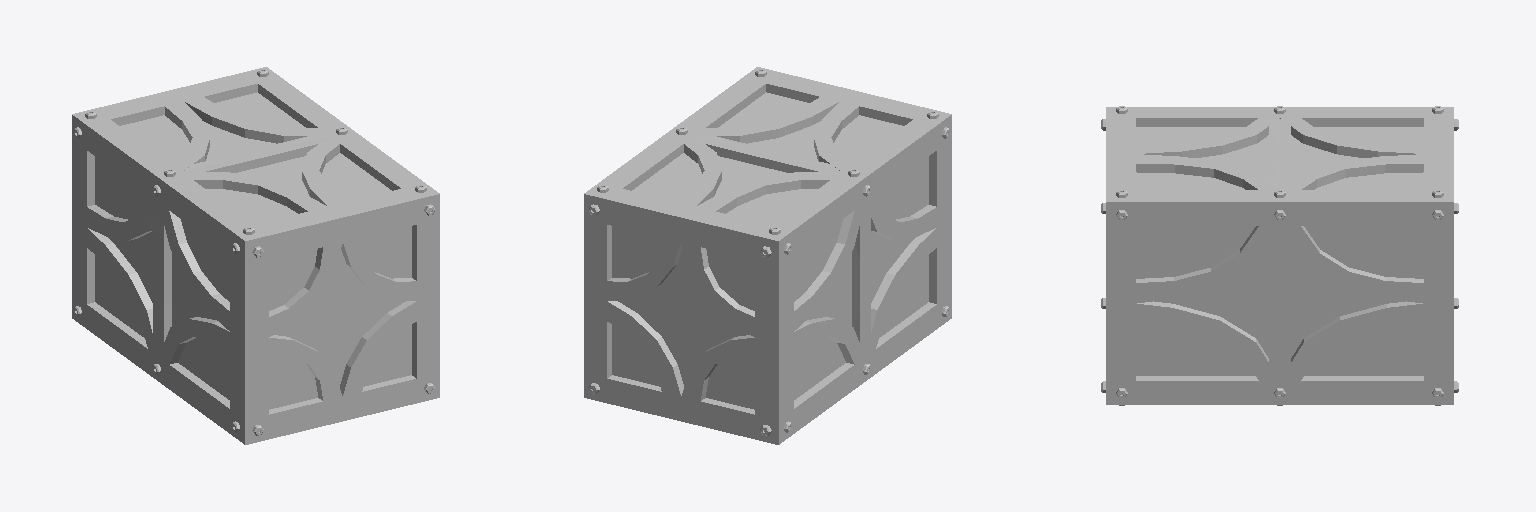
The model's file is crate.obj.
3 renders of one model, left to right at view 1: azimuth 30°, elevation 25°; view 2: azimuth 150°, elevation 25°; view 3: azimuth 270°, elevation 25°, orthographic.
Parts seen in each view (by area): view 1: Crate, Bolts; view 2: Crate, Bolts; view 3: Crate, Bolts.
Part boxes in pixels (left/top/right/bottom): Crate: left=72, top=67, right=439, bottom=444; Bolts: left=74, top=69, right=434, bottom=435; Crate: left=584, top=67, right=951, bottom=444; Bolts: left=589, top=69, right=949, bottom=435; Crate: left=1106, top=107, right=1453, bottom=404; Bolts: left=1101, top=106, right=1458, bottom=405.
Size of the model in its own units: 0.6439 by 0.6488 by 0.986.